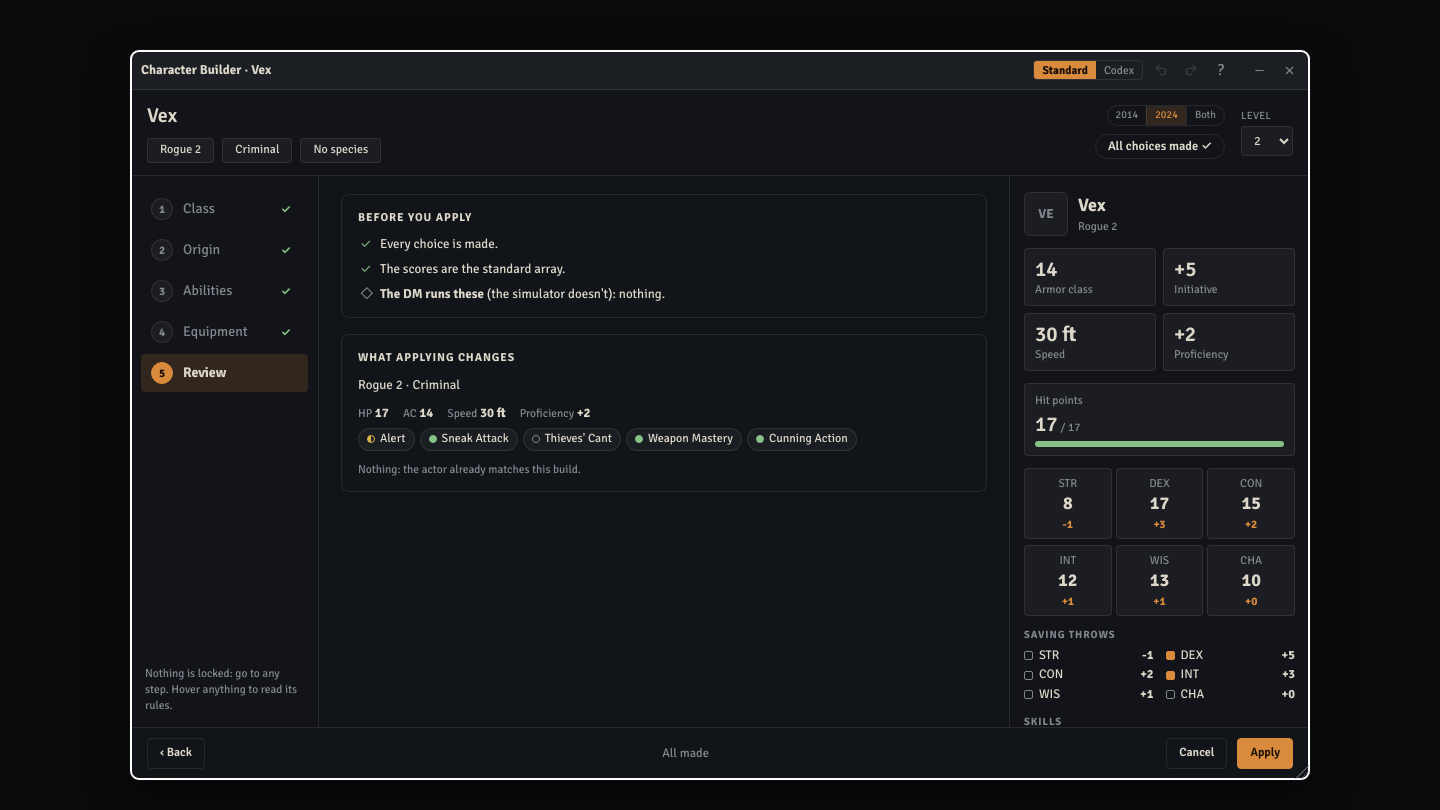
it: the Equipment step › says a built character's equipment was set when it was made
The width and height of the screenshot is (1440, 810).
Click the button "4 Equipment ✓".
click(224, 332)  # box left=141, top=313, right=308, bottom=351
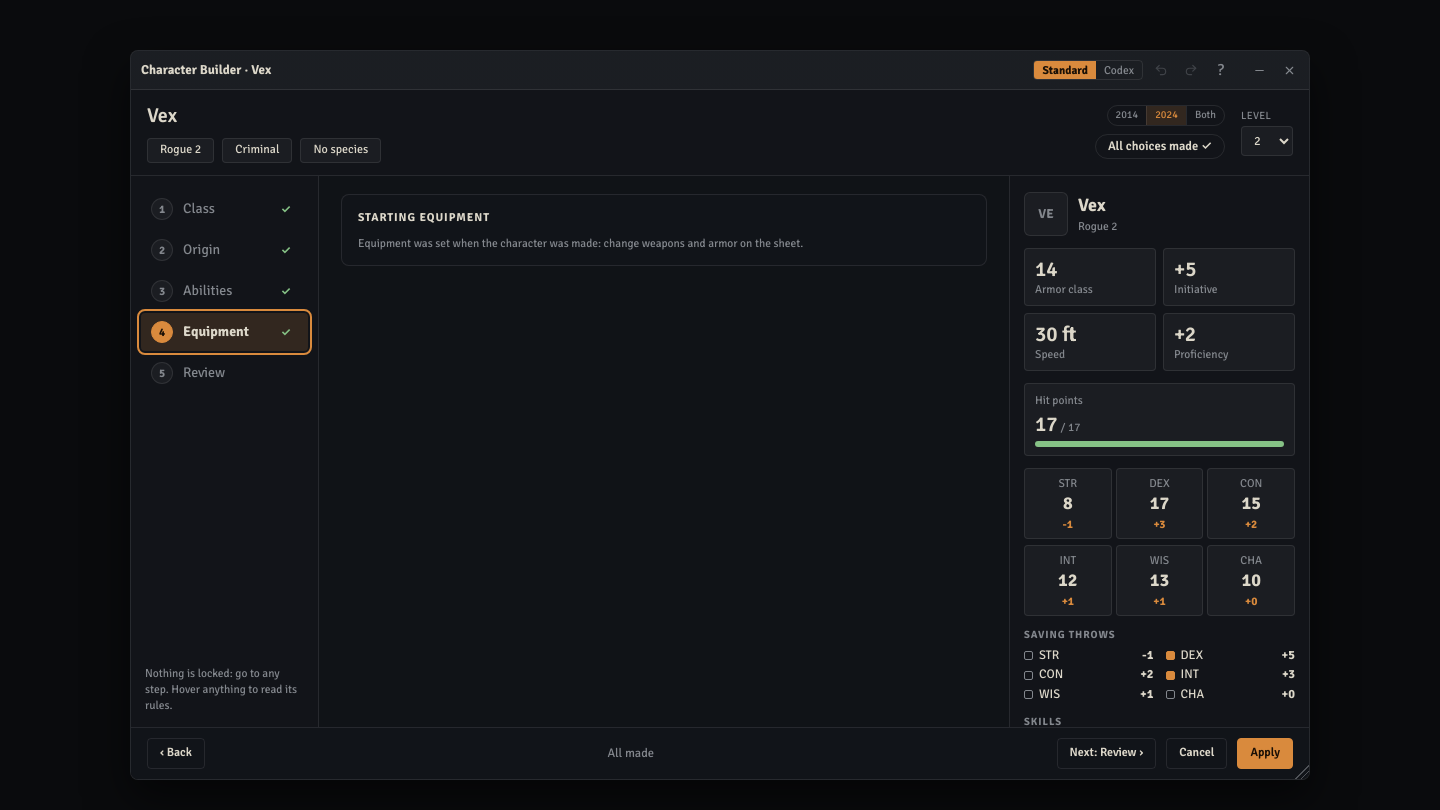
Expected: the dialog "Character Builder" shows "Equipment was set when the character was made", left=358, top=236, right=803, bottom=250
